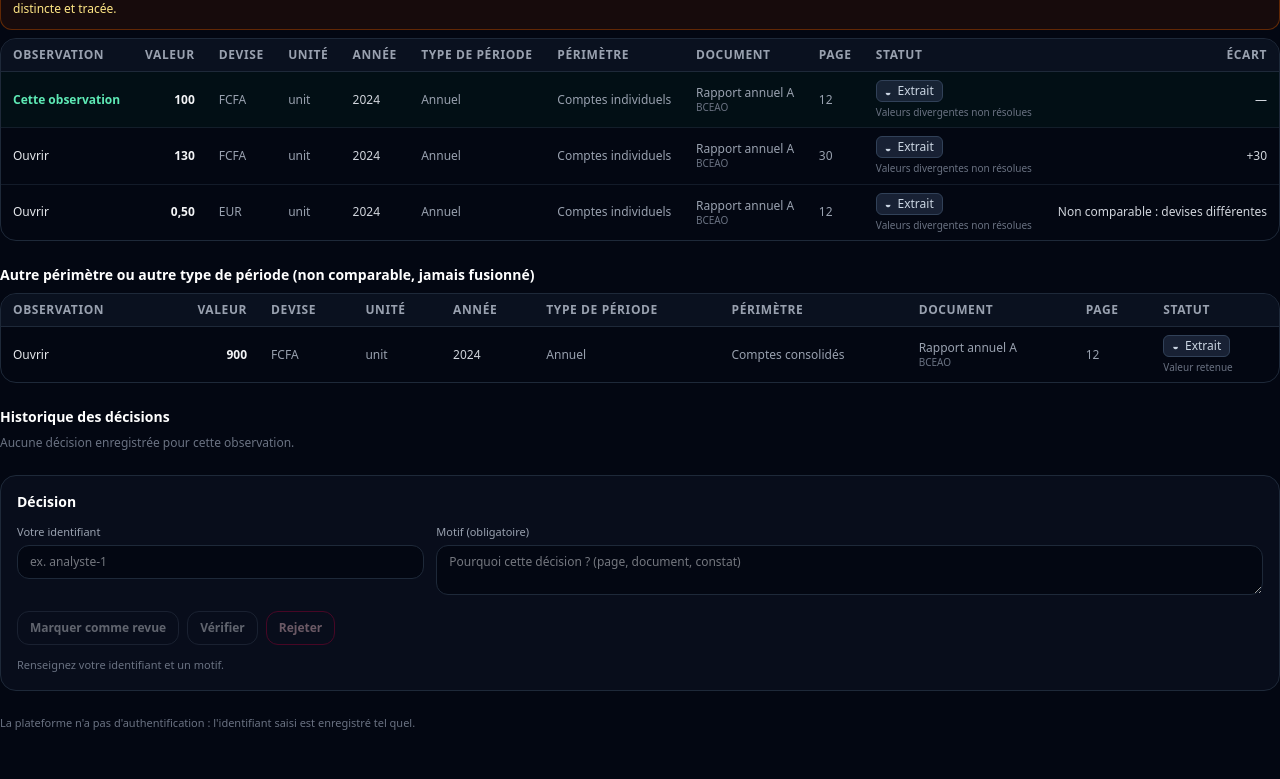
review actions › asks for confirmation, then sends the decision with the state seen (never a status)
(page scrolled)
Type "analyst-1" into the field labelled "Votre identifiant" at (221, 562), box [17,545,424,579]
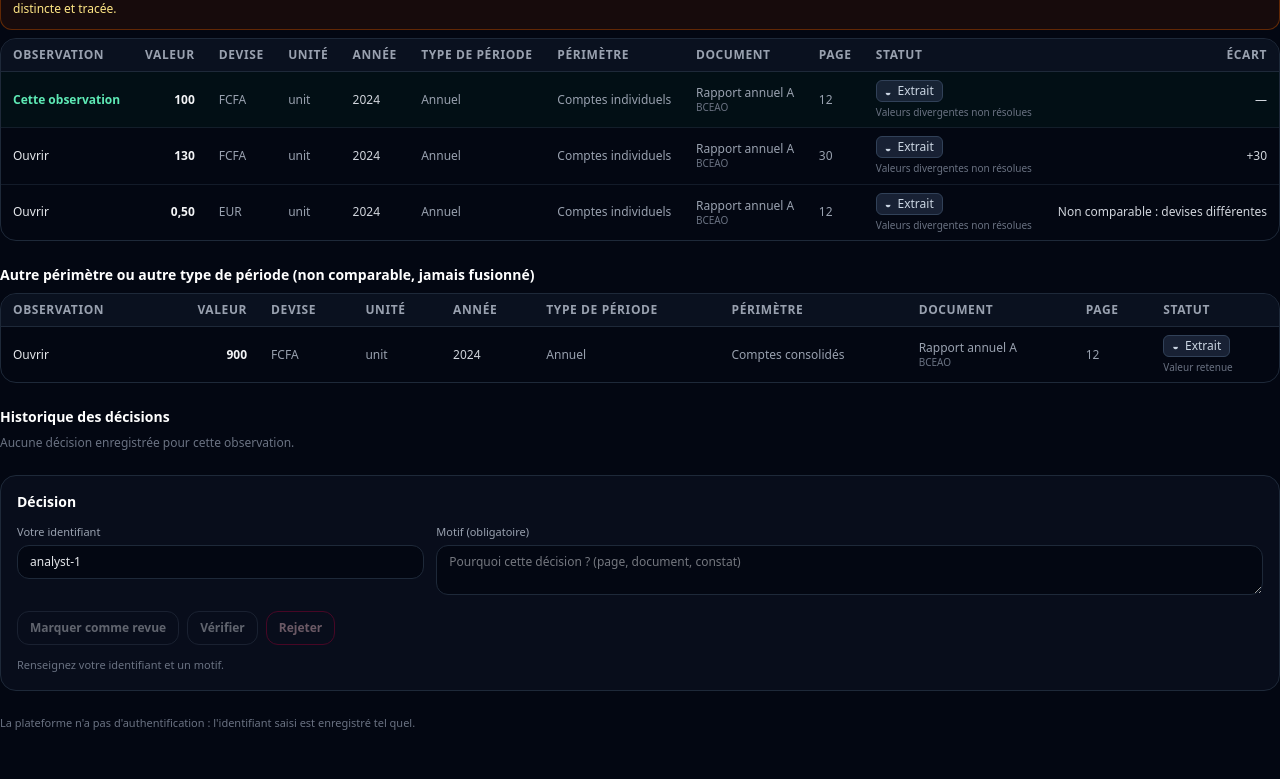
Type "Checked on p.12" into the text box labelled "Motif (obligatoire)" at (850, 570), box [436,545,1263,595]
(page scrolled)
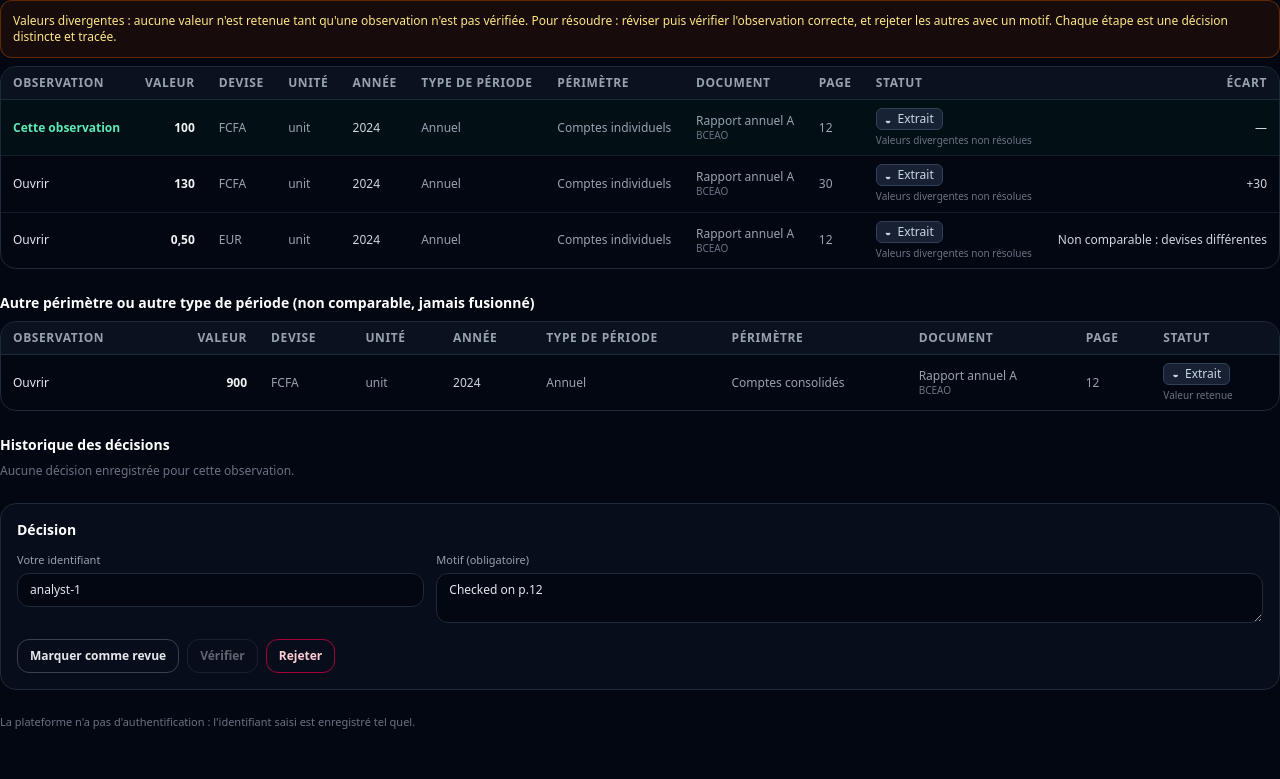
Click the button with test id "dq-action-reject" at (301, 656), box [266,639,335,673]
(page scrolled)
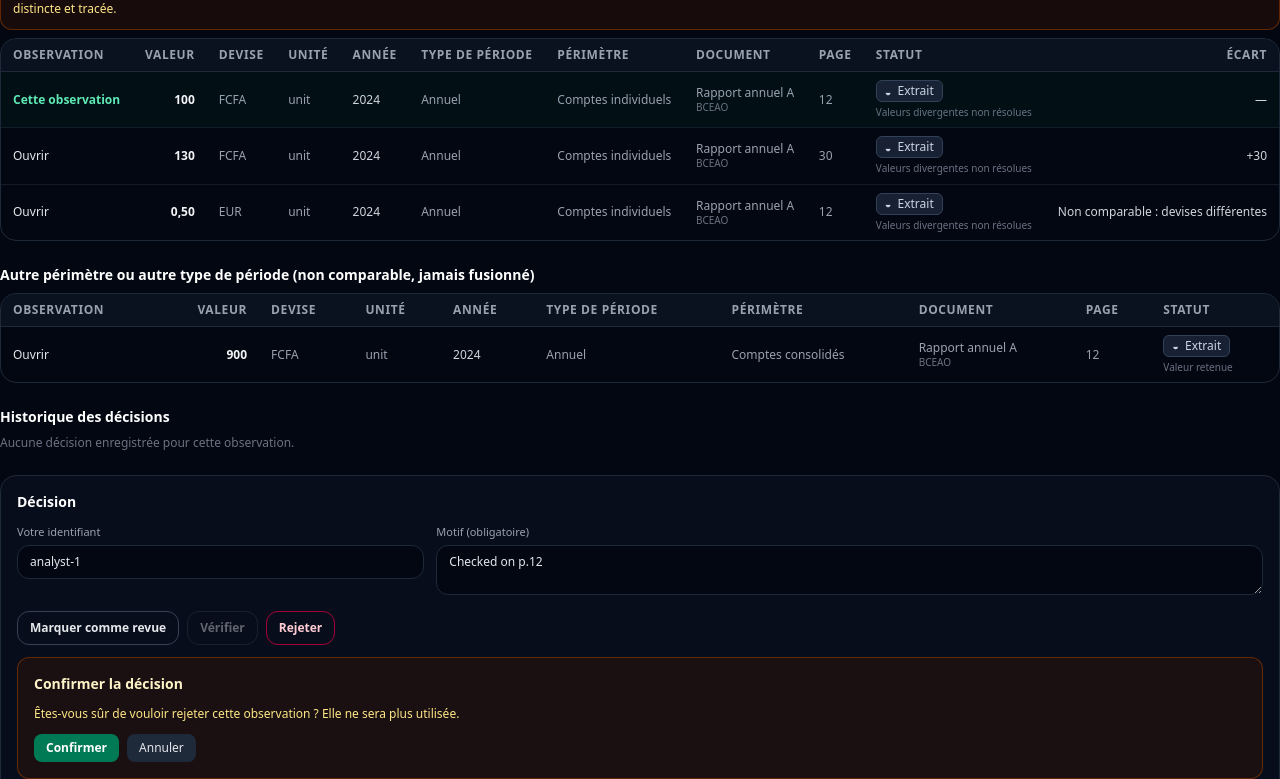
Expected: the dialog with test id "dq-confirm" shows "Êtes-vous sûr de vouloir rejeter cette observation ?", [34,705,459,722]
Click the button with test id "dq-confirm-no" at (161, 748), box [127,734,196,762]
(page scrolled)
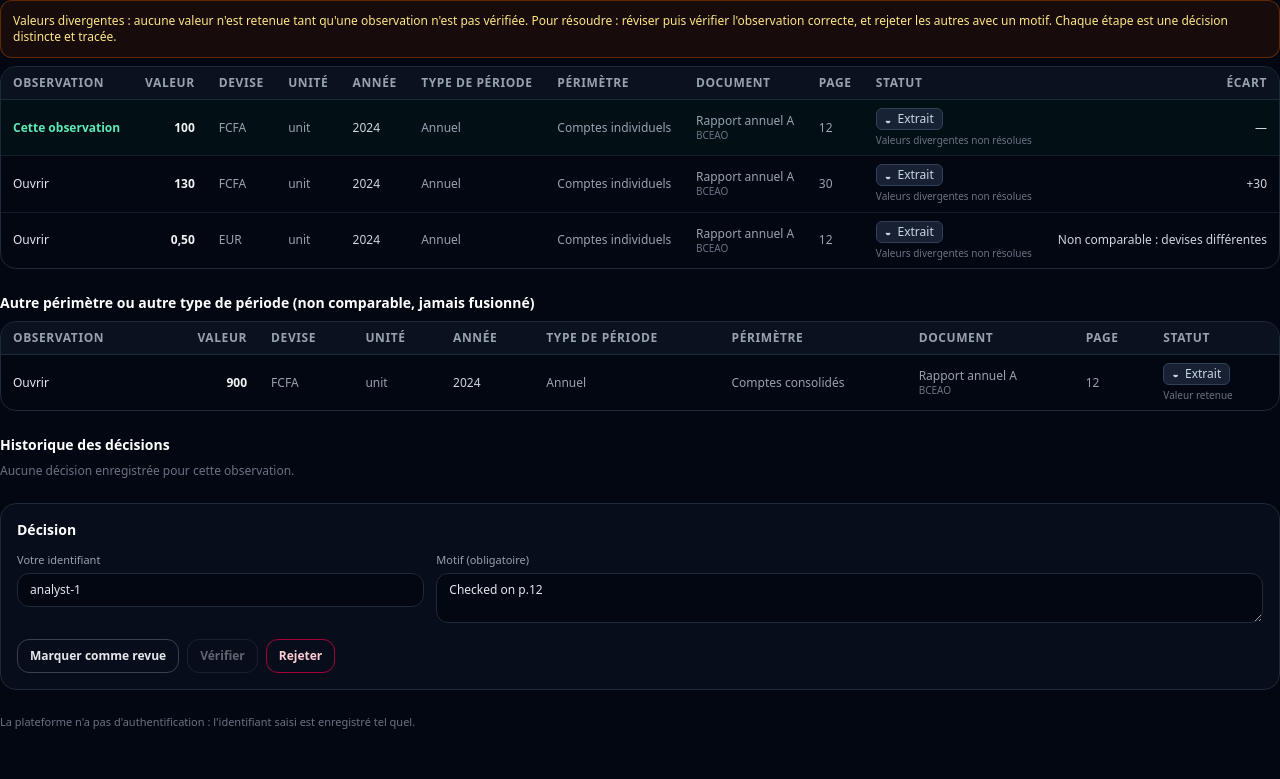
Expected: the dialog with test id "dq-confirm" is gone
Click the button with test id "dq-action-reject" at (301, 656), box [266,639,335,673]
(page scrolled)
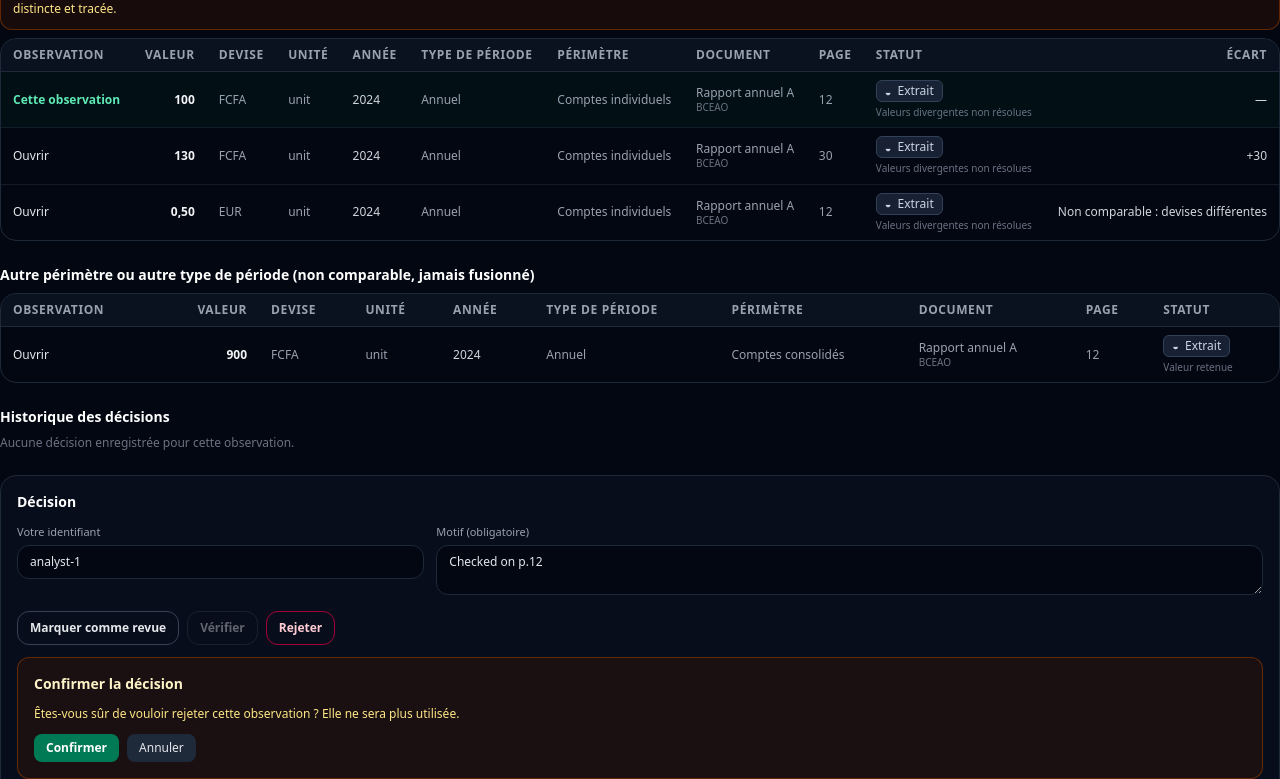
Click the button with test id "dq-confirm-yes" at (76, 748), box [34,734,119,762]
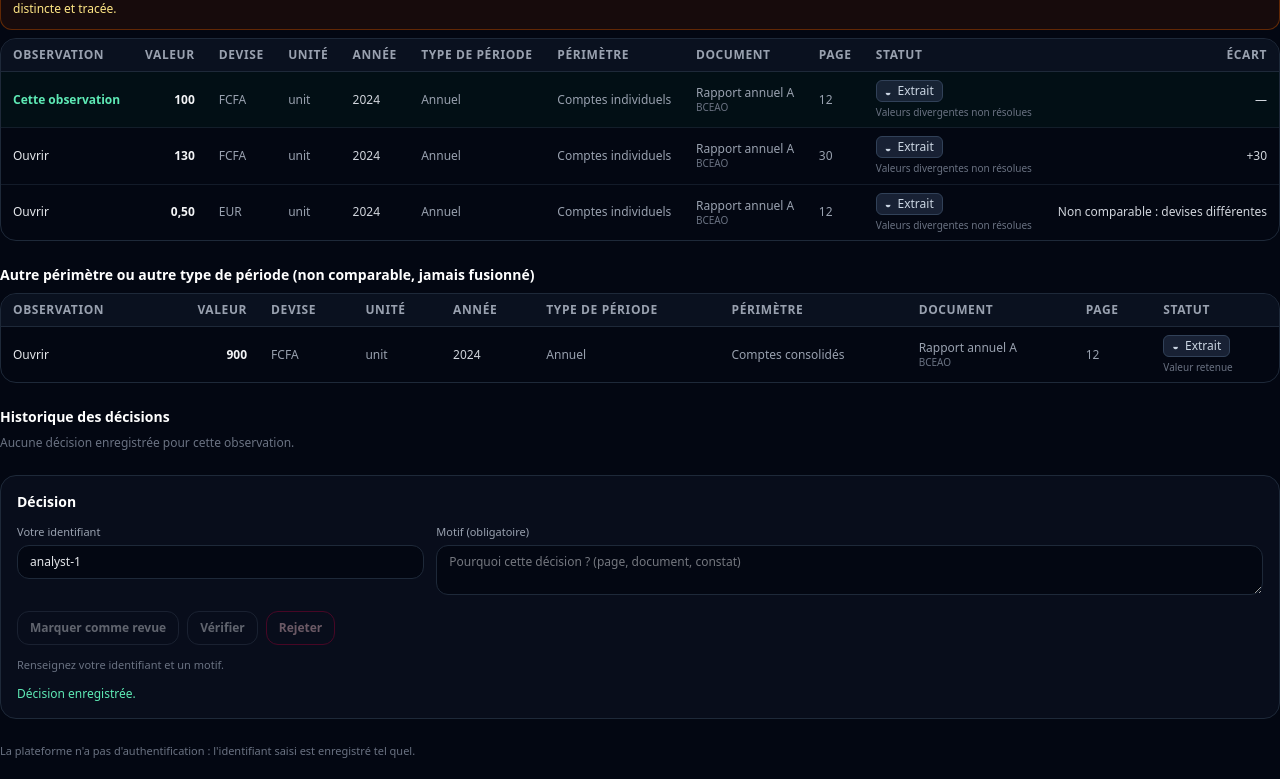
Expected: the text "Décision enregistrée." is shown, [17,685,136,702]
